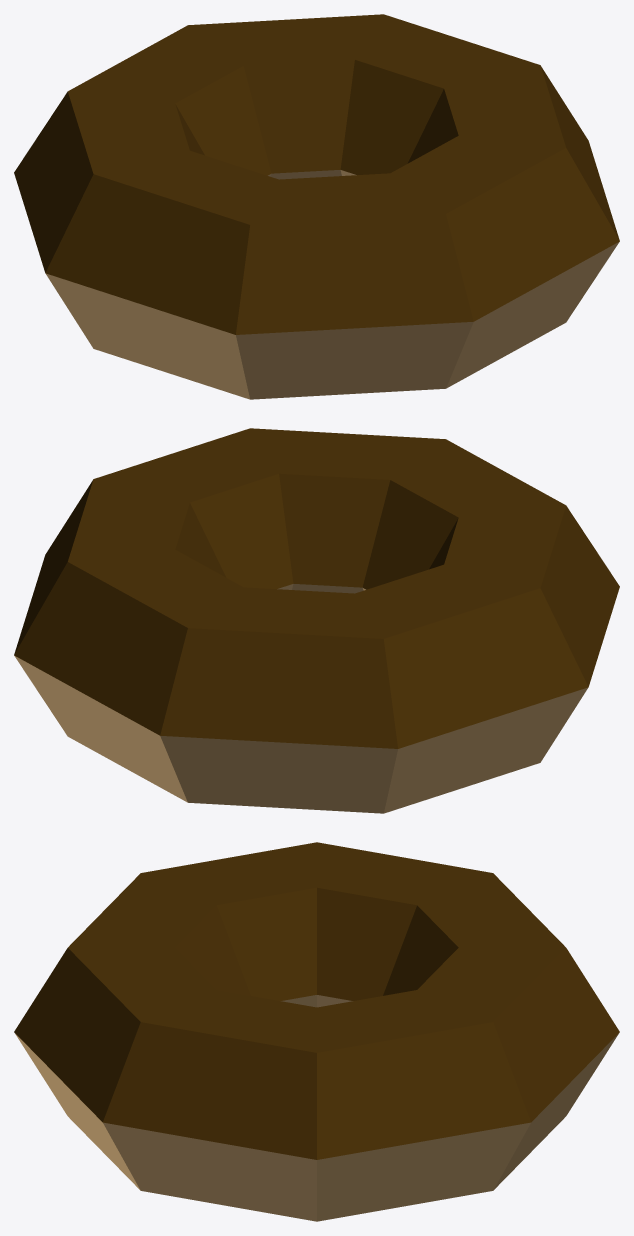
File: C_Donut_1.fbx
3 views of the same model, one above another, from view 1: azimuth 30°, elevation 25°; view 2: azimuth 150°, elevation 25°; view 3: azimuth 270°, elevation 25° (orthographic). The views are drawn at different scales.
Visible parts, largest first — view 1: C_Donut_1; view 2: C_Donut_1; view 3: C_Donut_1.
Boxes of the visible parts, <box> form: C_Donut_1: <box>14,14,619,399</box>; C_Donut_1: <box>14,428,619,813</box>; C_Donut_1: <box>14,842,619,1221</box>.
Bounding box in the file's own units: 91.75 × 91.75 × 28.19.
